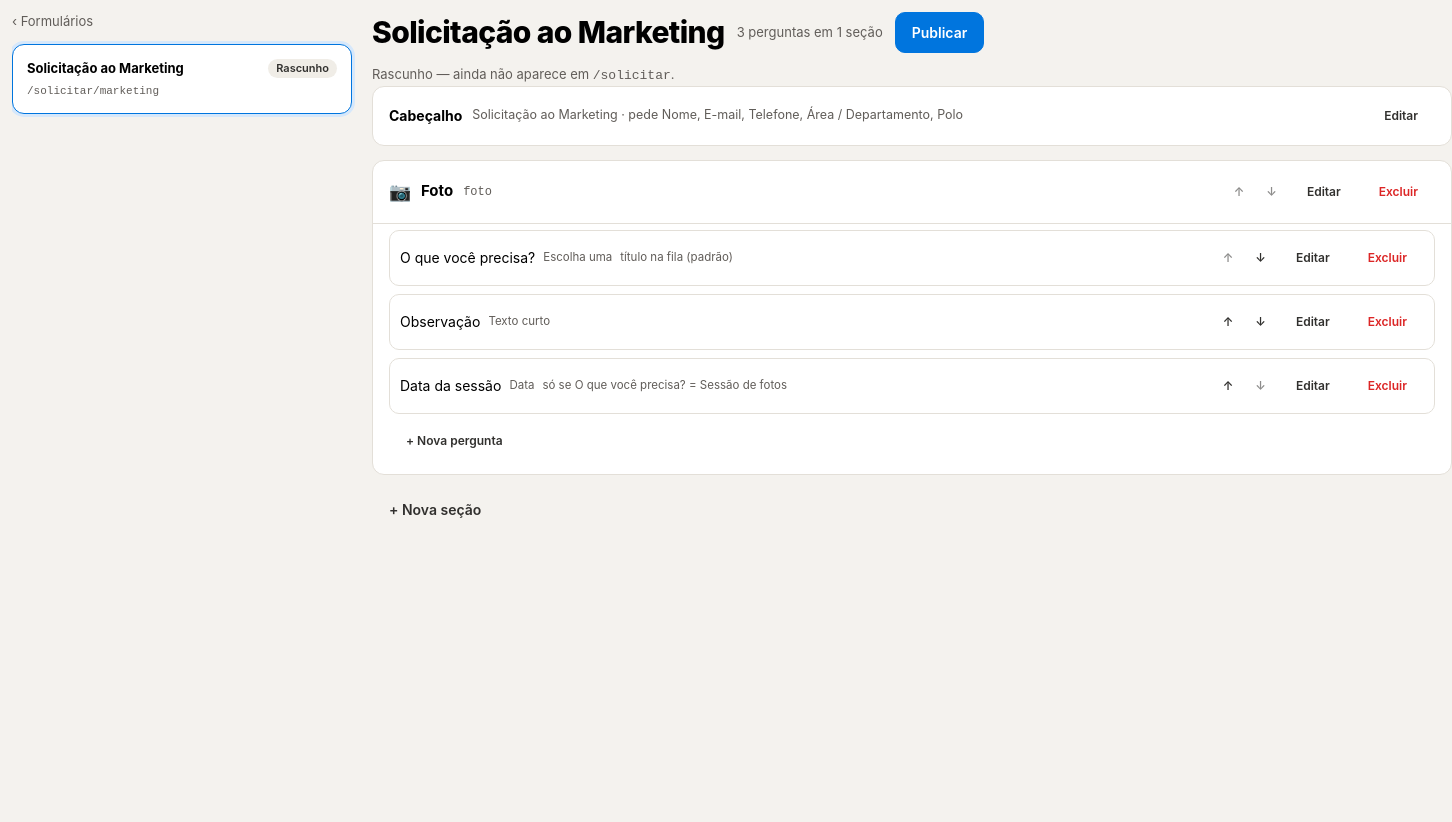
it: a seção › ⚠️ o painel de edição avisa que o endereço NÃO muda, e por quê
Click the 2nd button "Editar": (1324, 192) [1290,172,1358,210]
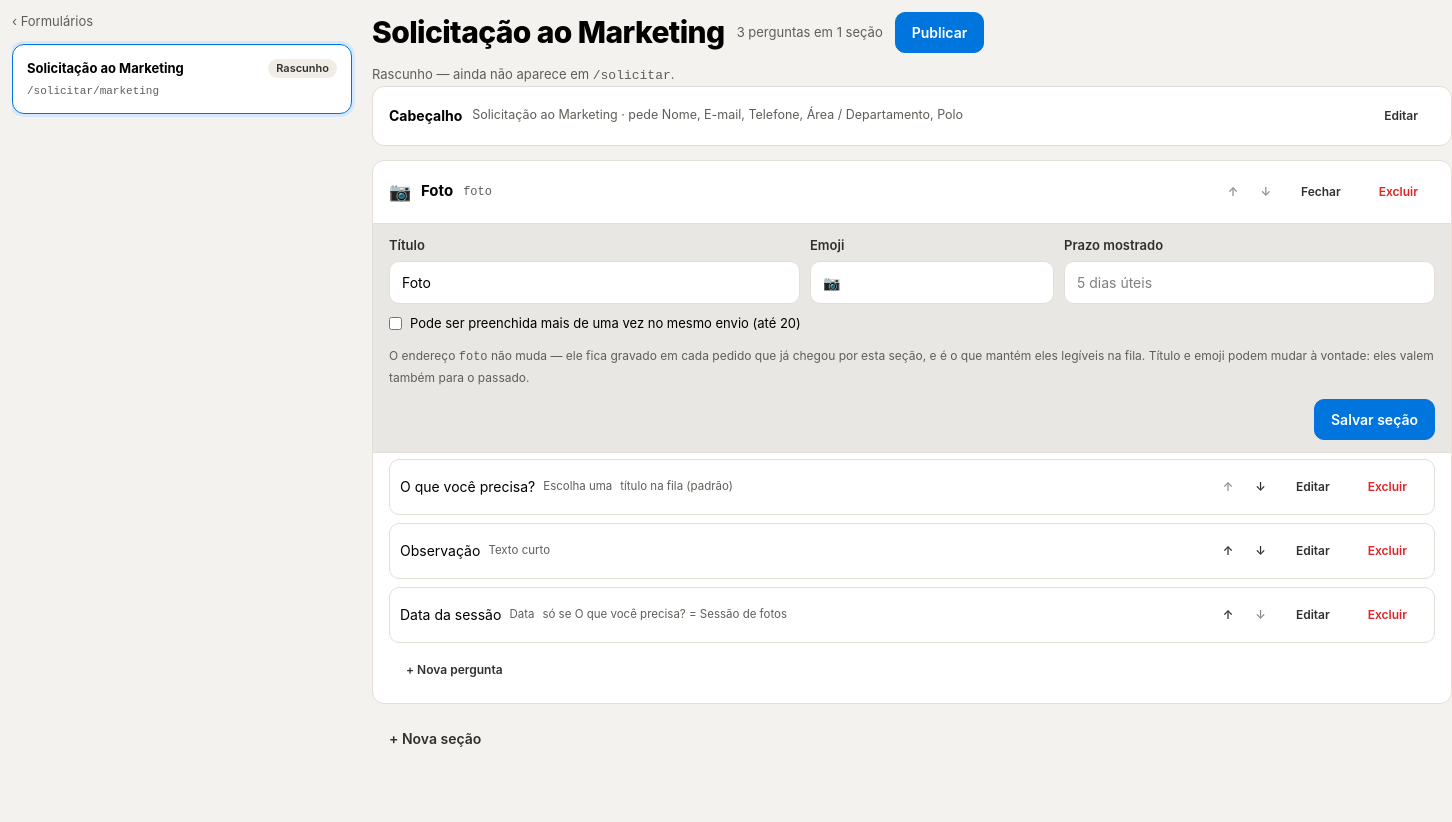
Check: the text "não muda" is shown, box [389,348,1434,385]
